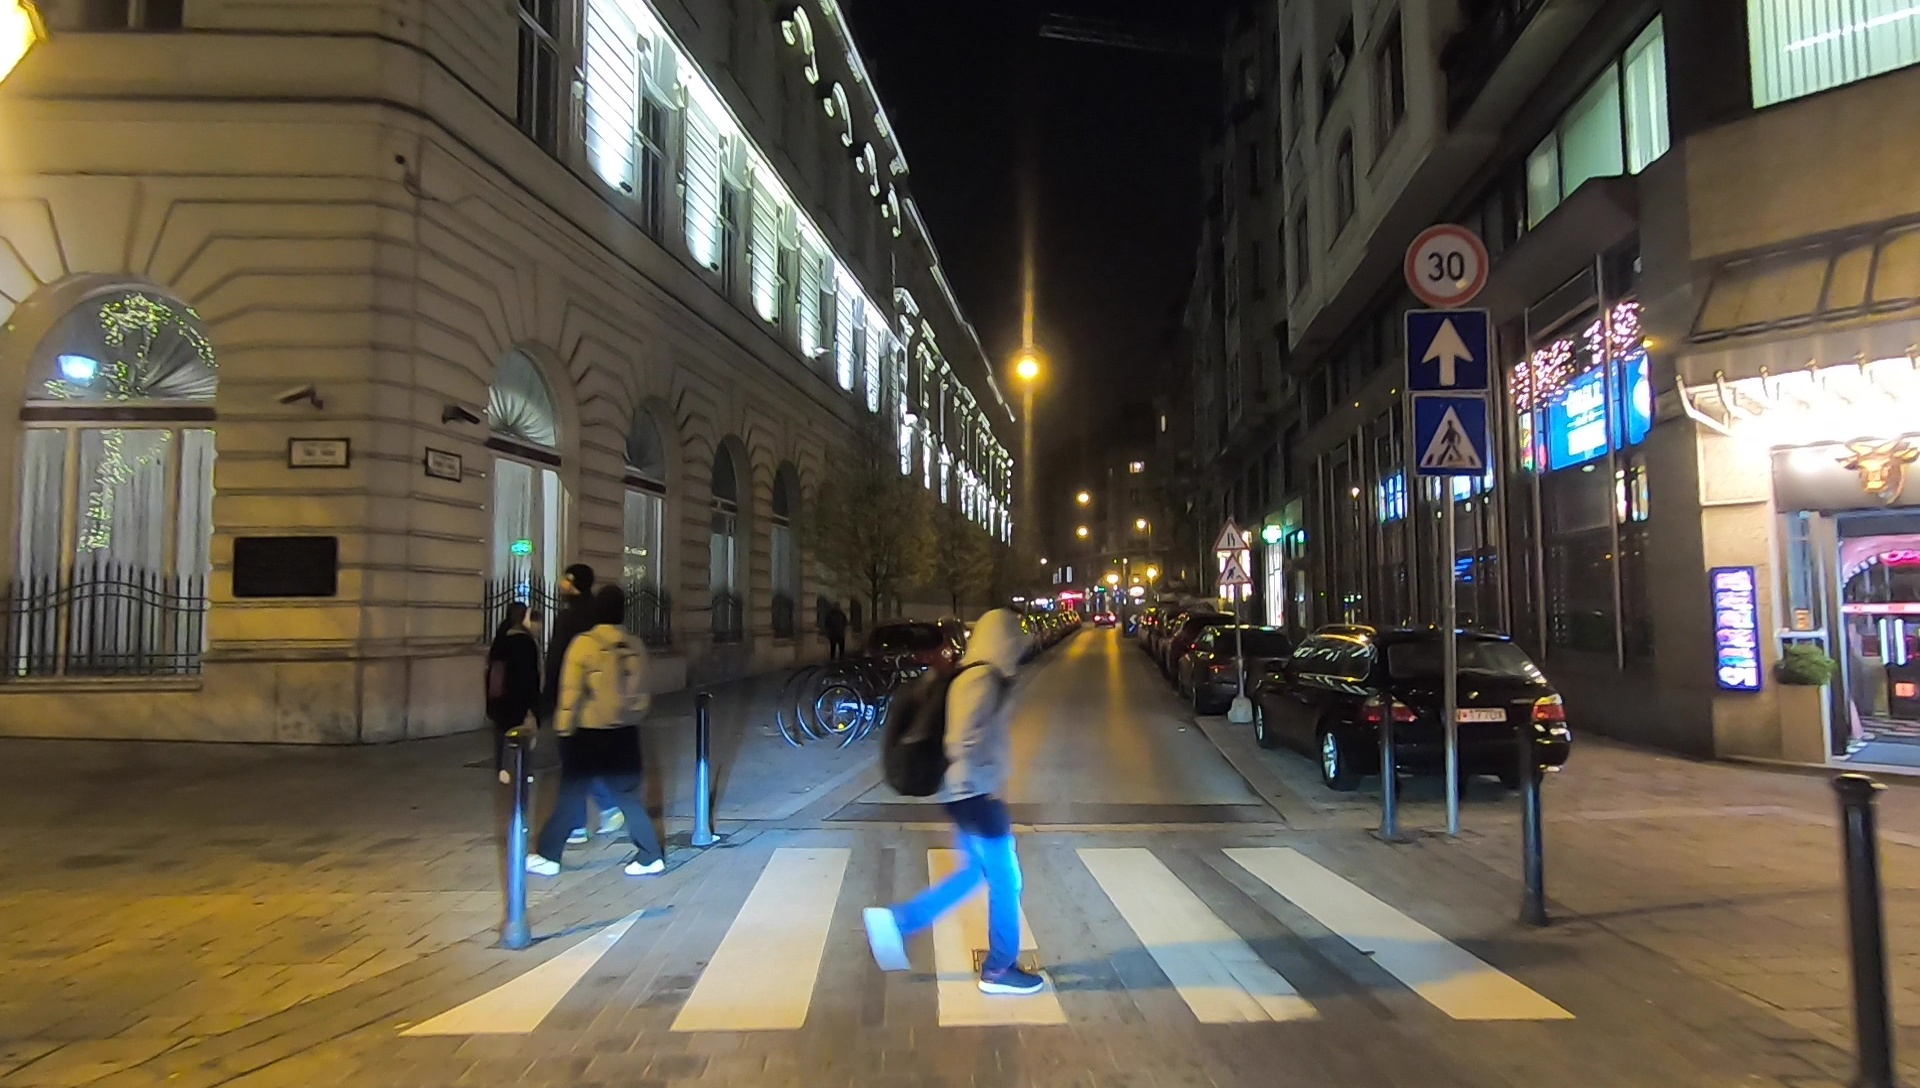person: (865, 610, 1043, 999), (536, 587, 664, 873), (551, 569, 625, 843), (489, 602, 534, 789)
